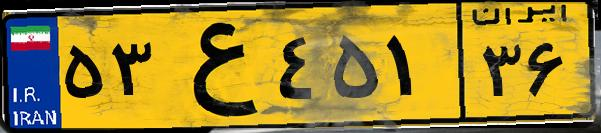1: (385, 28, 445, 110)
3: (475, 38, 525, 113), (110, 28, 158, 98)
4: (270, 28, 330, 110)
5: (330, 28, 385, 110), (57, 26, 110, 100)
6: (525, 38, 570, 115)
ع: (158, 12, 270, 120)
